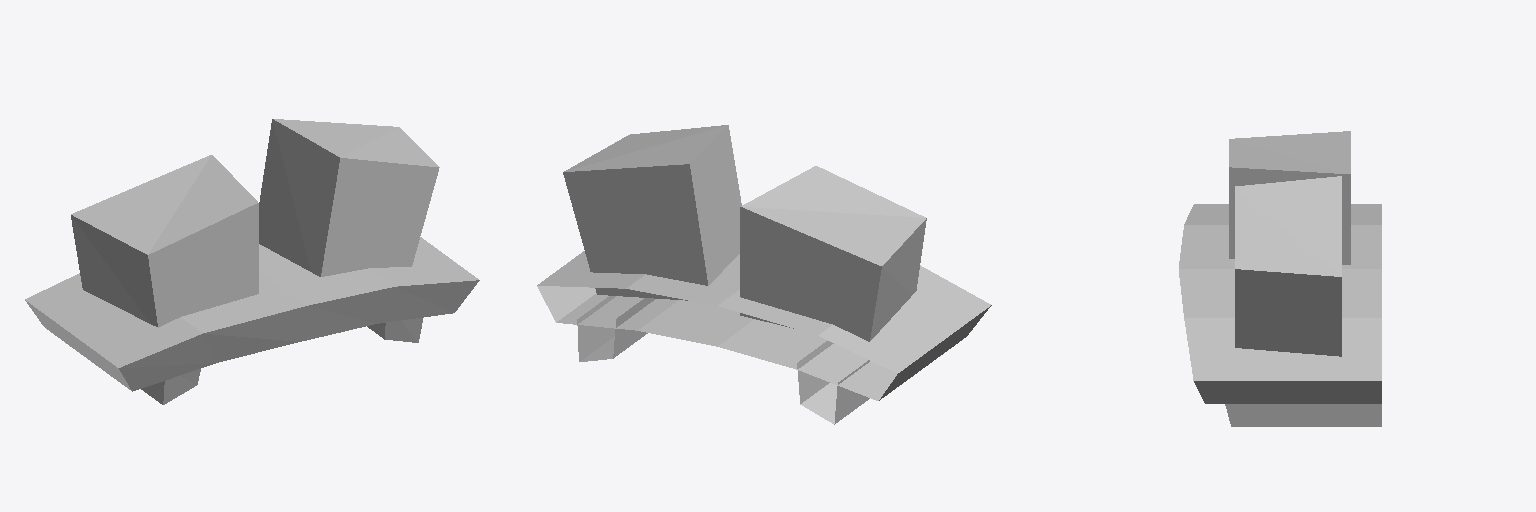
File: pantry_shelves.obj
The picture shows the model from 3 angles: view 1: azimuth 30°, elevation 25°; view 2: azimuth 150°, elevation 25°; view 3: azimuth 270°, elevation 25°; orthographic projection.
Parts seen in each view (by area): view 1: part0_texture0.013, part2_texture1.001, part3_texture1.001, part1_texture0.001; view 2: part0_texture0.013, part3_texture1.001, part2_texture1.001, part1_texture0.001; view 3: part0_texture0.013, part2_texture1.001, part3_texture1.001.
Boxes of the visible parts, box(x1,y1,x2,y2) form: part0_texture0.013: box(25, 237, 479, 391); part2_texture1.001: box(259, 119, 439, 276); part3_texture1.001: box(71, 155, 258, 327); part1_texture0.001: box(141, 369, 200, 404); part0_texture0.013: box(537, 251, 991, 400); part3_texture1.001: box(740, 166, 926, 341); part2_texture1.001: box(563, 125, 741, 300); part1_texture0.001: box(797, 341, 869, 424); part0_texture0.013: box(1179, 204, 1381, 426); part2_texture1.001: box(1235, 176, 1341, 356); part3_texture1.001: box(1229, 131, 1350, 264).
Bounding box in the file's own units: 0.8672 × 0.4727 × 0.4219.